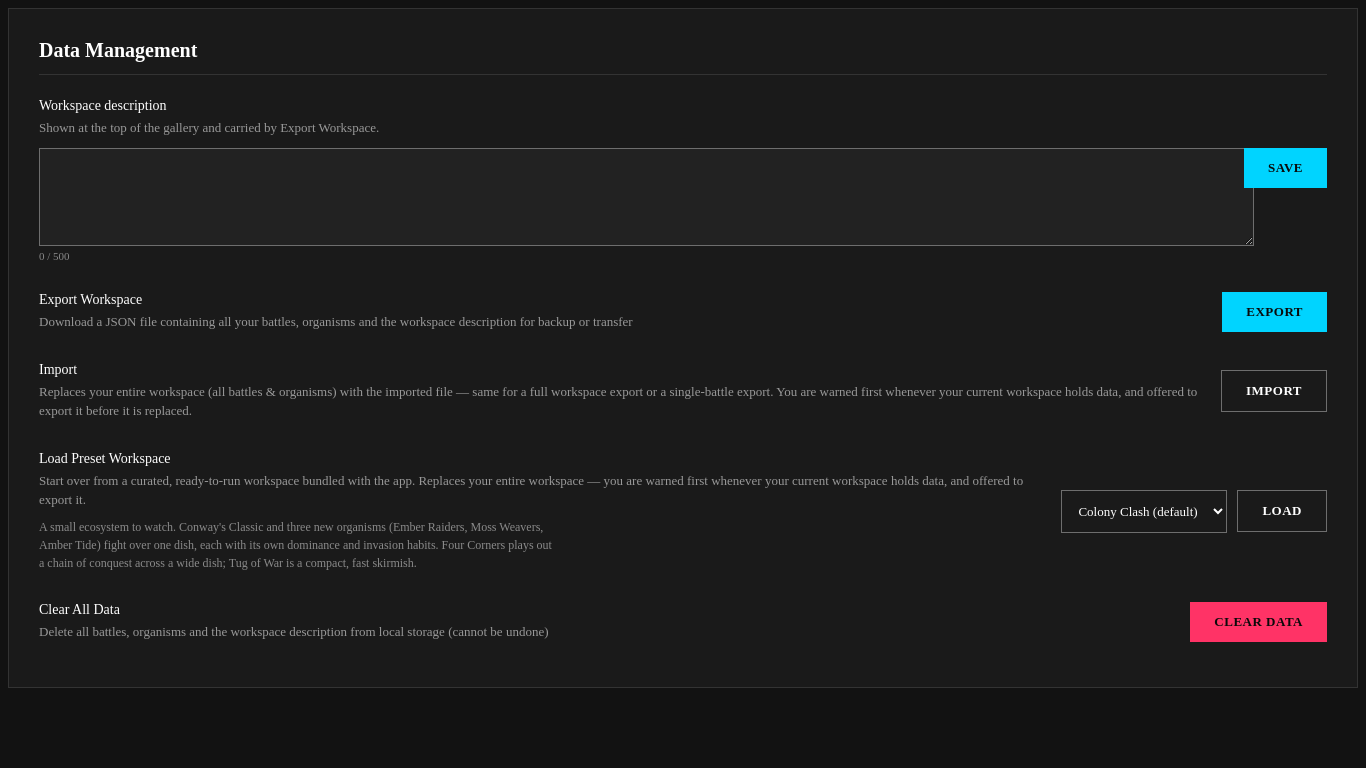
Test case: WorkspaceDescriptionRow (Story 7.2, FR-9.5) › saves through the port and reports the outcome in the card’s shared status slot
Type "My lab." into the text box labelled "Workspace description" at x=646, y=196, box top-left (39, 148), bottom-right (1254, 246)
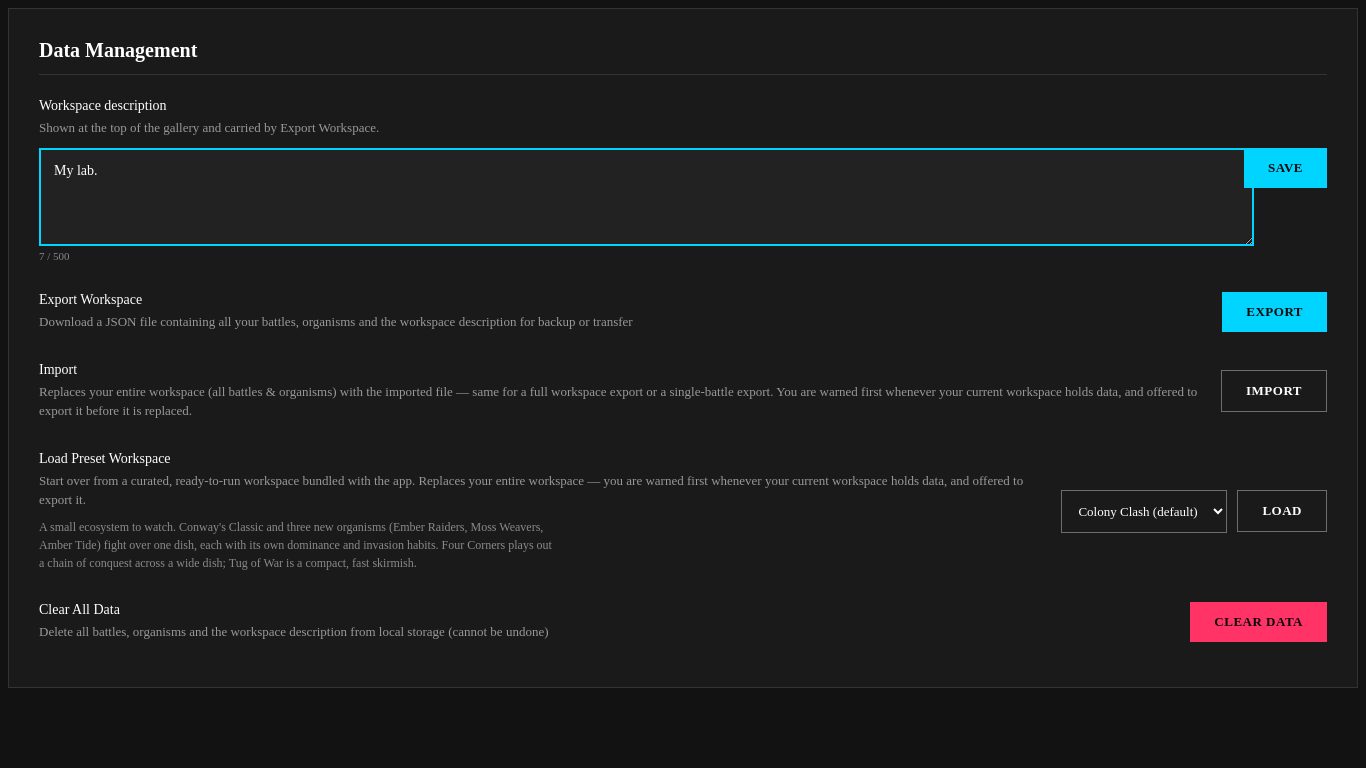
Click the button with aria-label "Save workspace description" at x=1286, y=168, box top-left (1244, 148), bottom-right (1327, 188)
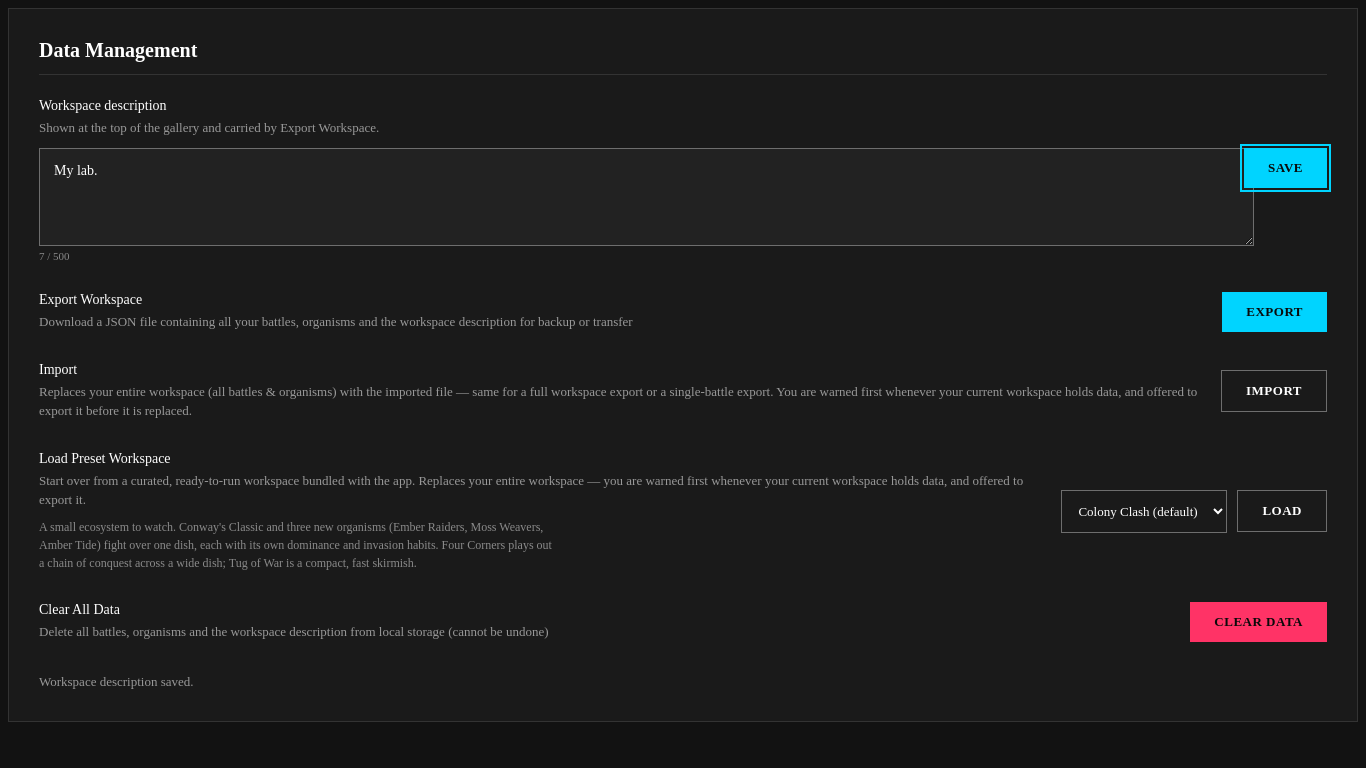
Now the message reads "Workspace description saved.", box top-left (39, 674), bottom-right (194, 688)
